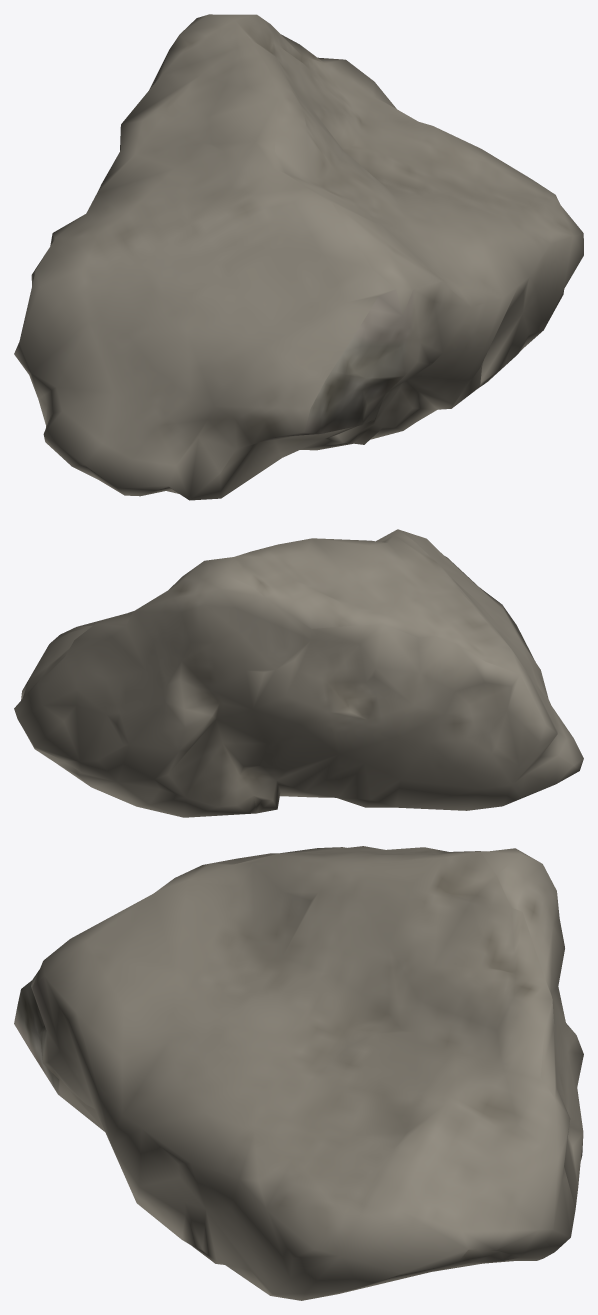
File: ph_moonrock_3.glb
3 renders of one model, top to bottom at view 1: azimuth 30°, elevation 25°; view 2: azimuth 150°, elevation 25°; view 3: azimuth 270°, elevation 25°, orthographic. The views are drawn at different scales.
Visible parts, largest first — view 1: ph_moonrock_3_lod1; view 2: ph_moonrock_3_lod1; view 3: ph_moonrock_3_lod1.
Boxes of the visible parts, left/top/right/bottom form: ph_moonrock_3_lod1: left=14, top=14, right=583, bottom=500; ph_moonrock_3_lod1: left=14, top=529, right=583, bottom=817; ph_moonrock_3_lod1: left=14, top=846, right=583, bottom=1300.
Size of the model in its own units: 0.1124 by 0.0583 by 0.0859.
Materials: 1 (1 with a texture image).
